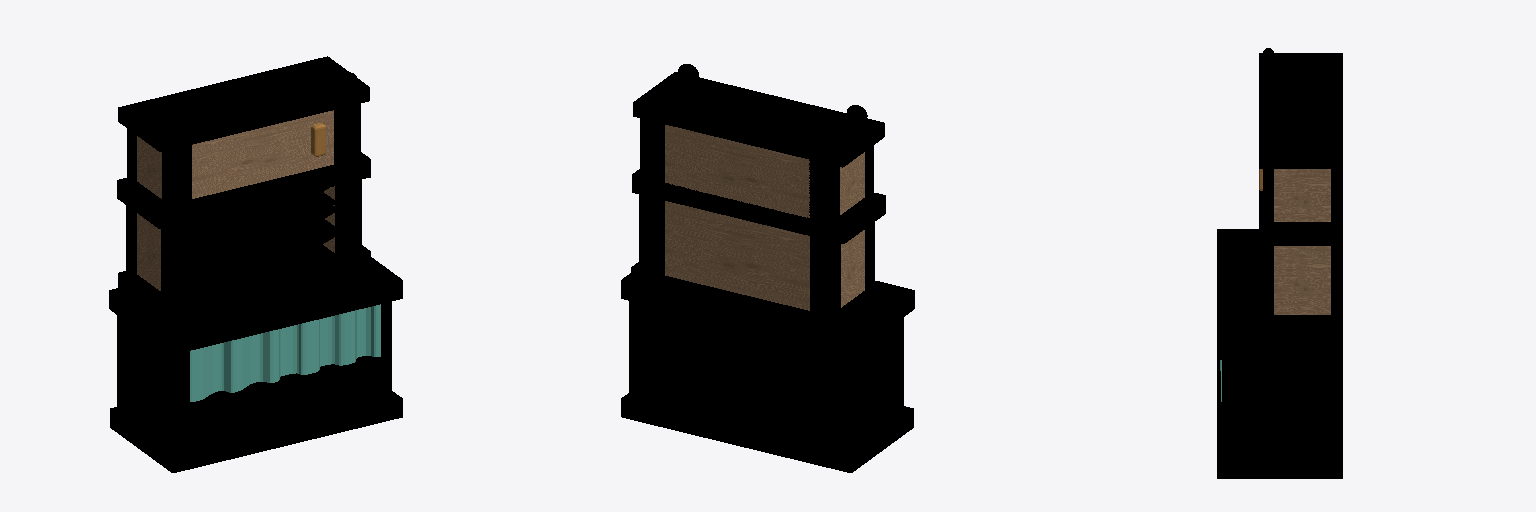
3 renders of one model, left to right at view 1: azimuth 30°, elevation 25°; view 2: azimuth 150°, elevation 25°; view 3: azimuth 270°, elevation 25°, orthographic.
Visible parts, largest first — view 1: polySurface1222; view 2: polySurface1222; view 3: polySurface1222.
Part boxes in pixels (x1,y1,x2,y2): polySurface1222: (109, 56, 402, 472); polySurface1222: (621, 64, 914, 472); polySurface1222: (1217, 48, 1342, 478).
Bounding box in the file's own units: 1.31 × 1.81 × 0.6216.
Materials: 6 (3 with a texture image).